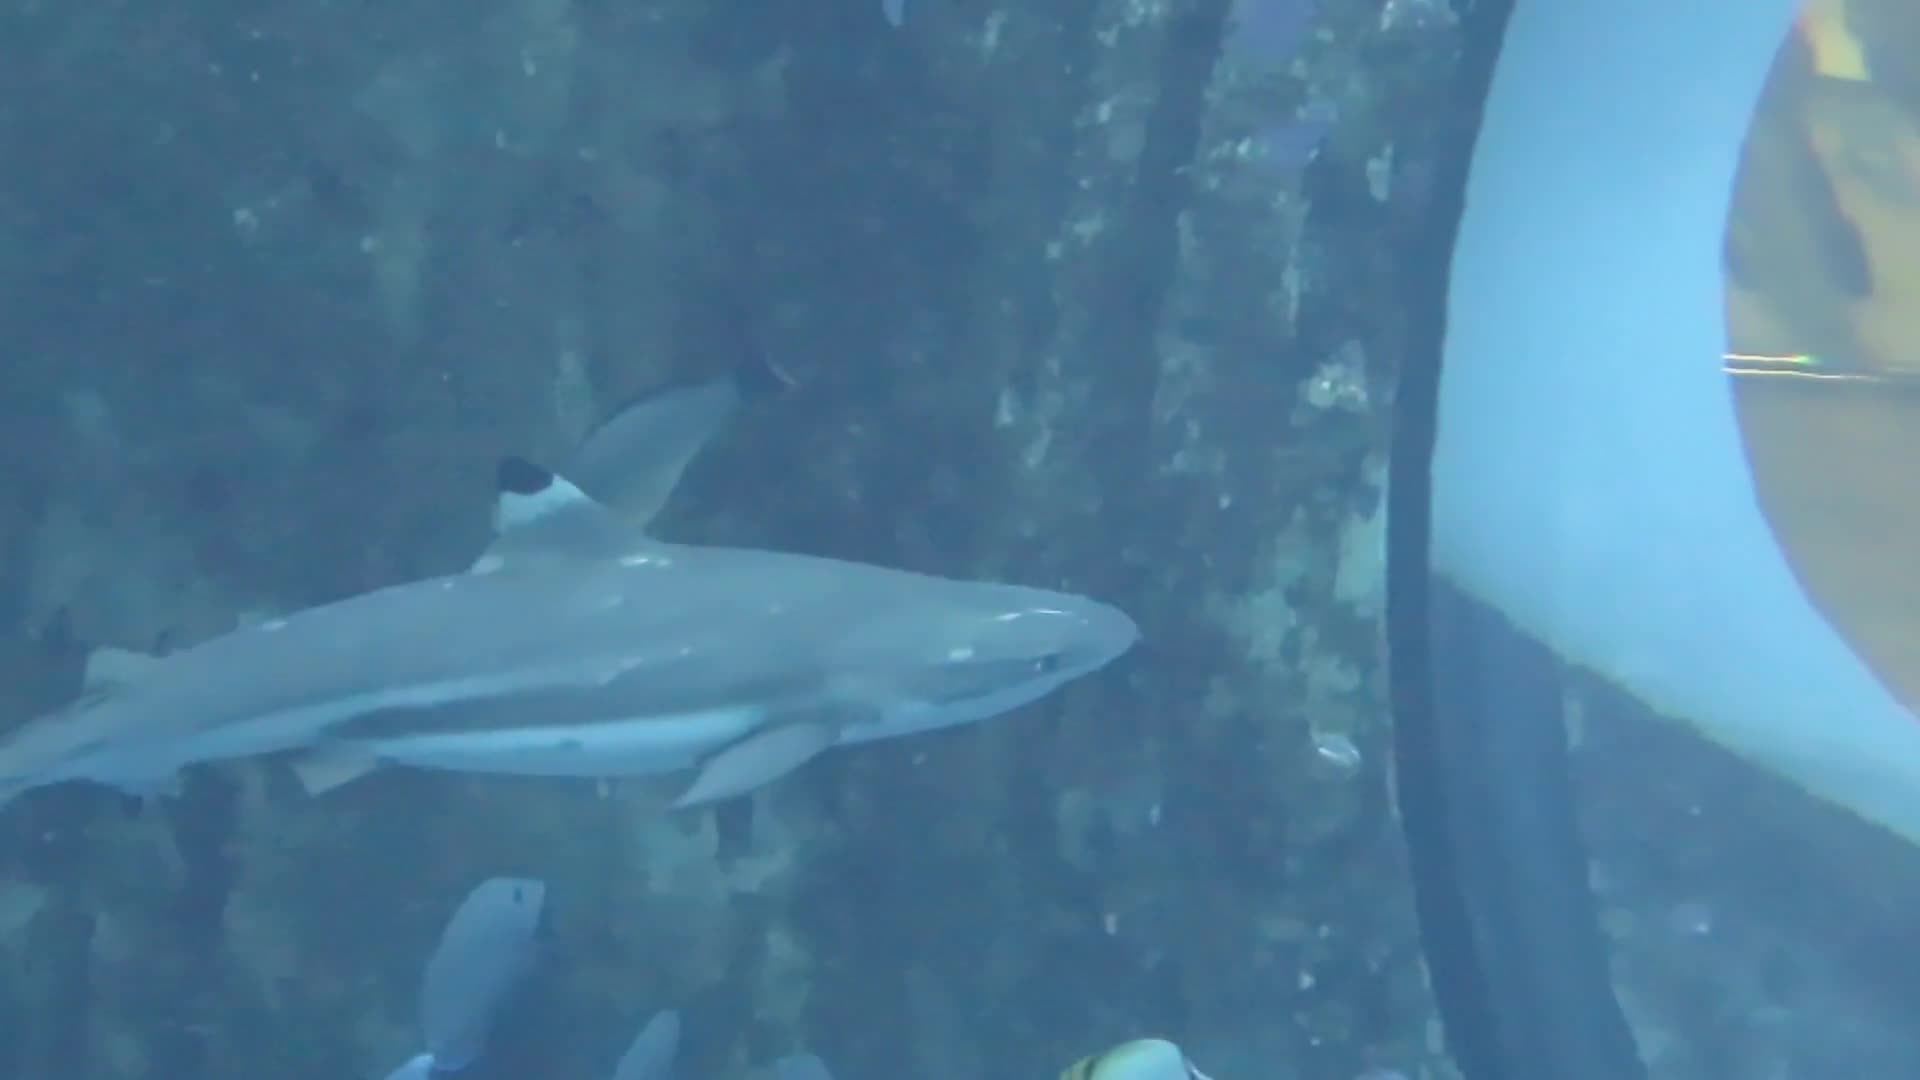Carcharhinus melanopterus: (1, 402, 1162, 891)
